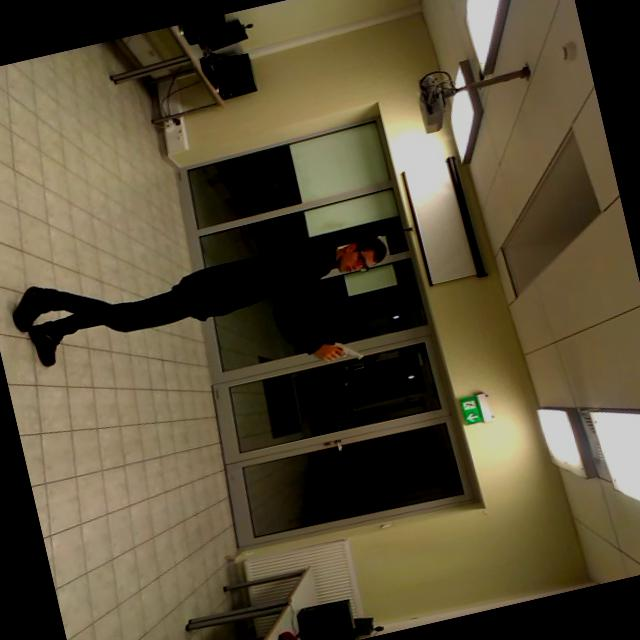handgun: (314, 334, 366, 375)
